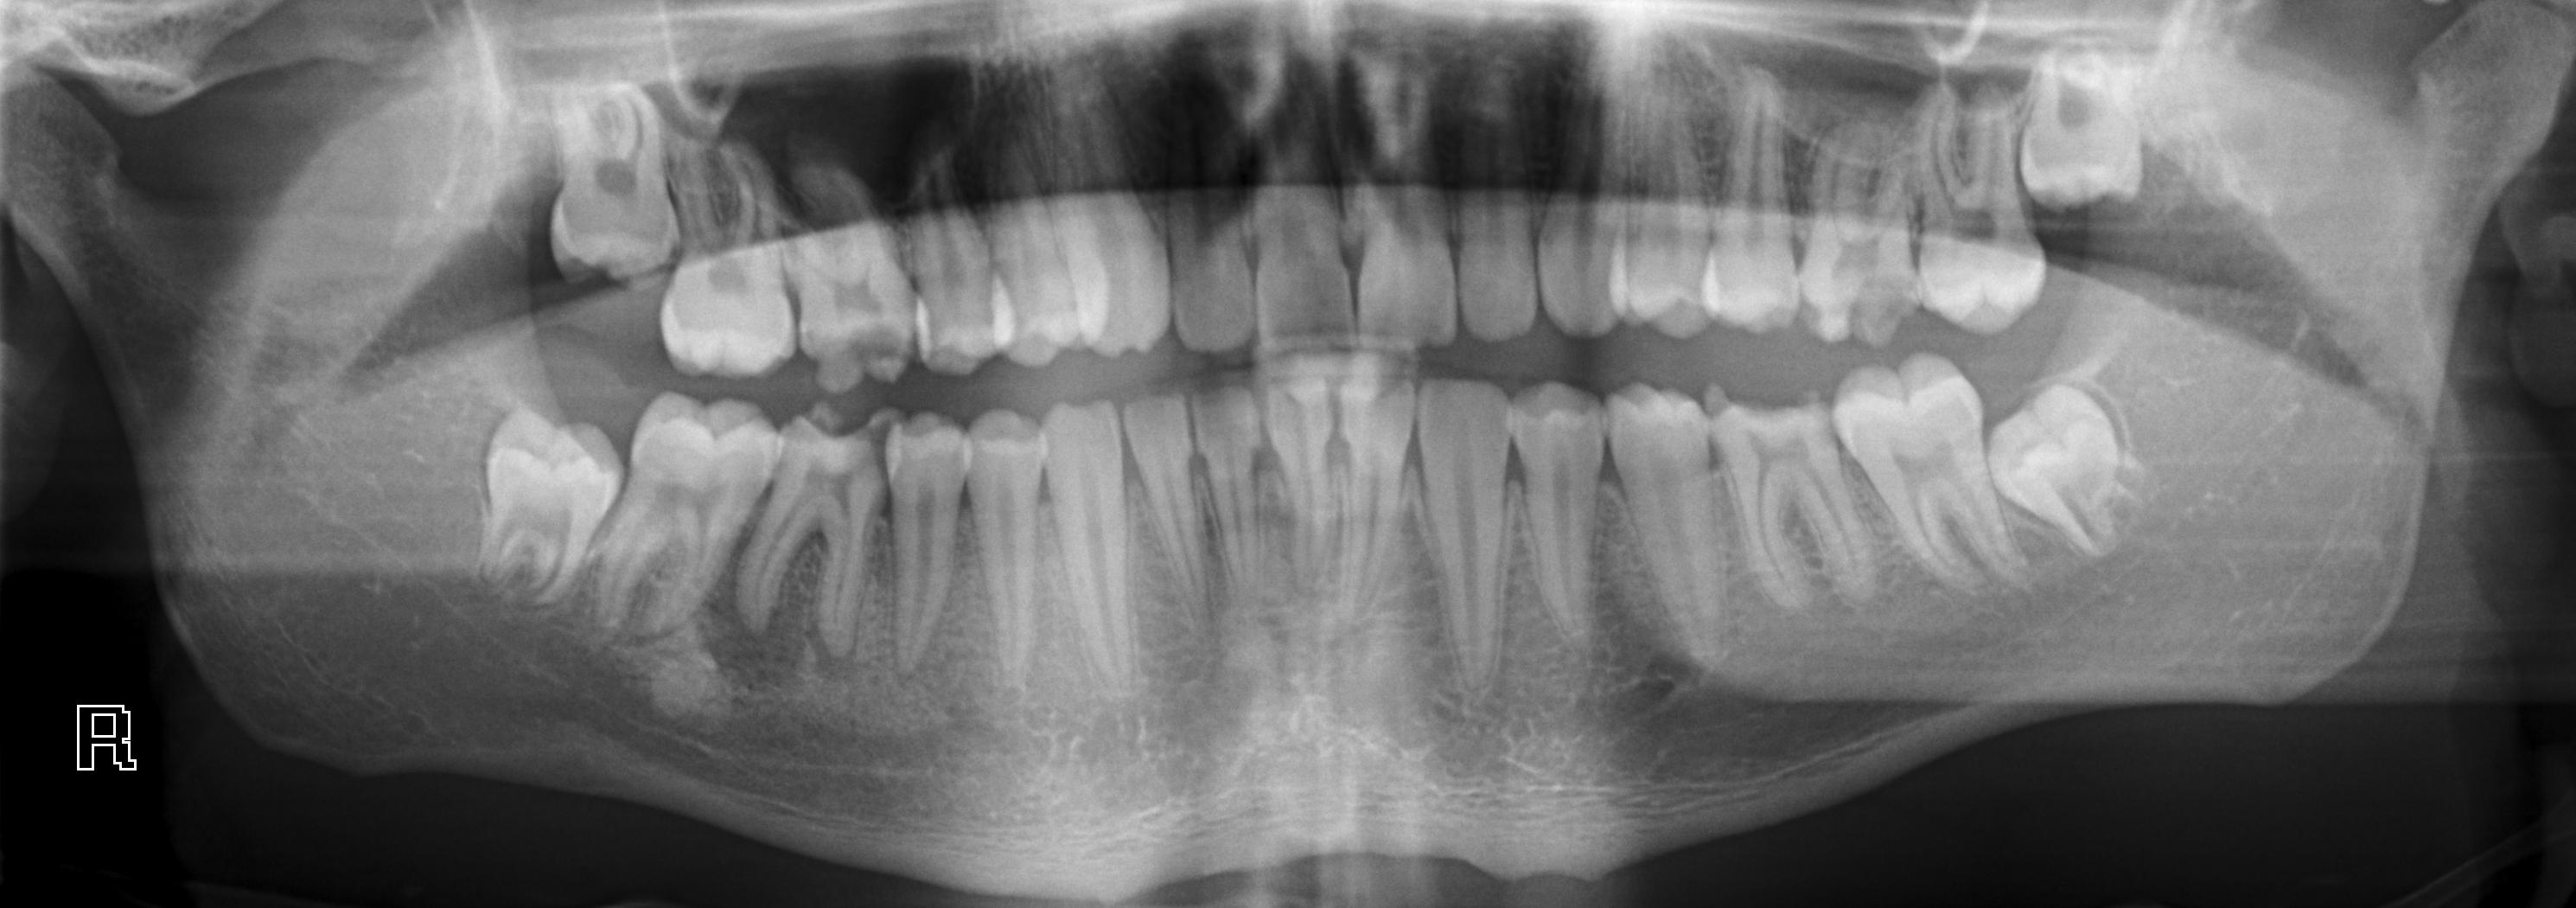Çürük Bölgesi: (1718, 381, 1835, 429), (838, 313, 902, 400), (1857, 280, 1916, 349), (860, 412, 908, 496)
